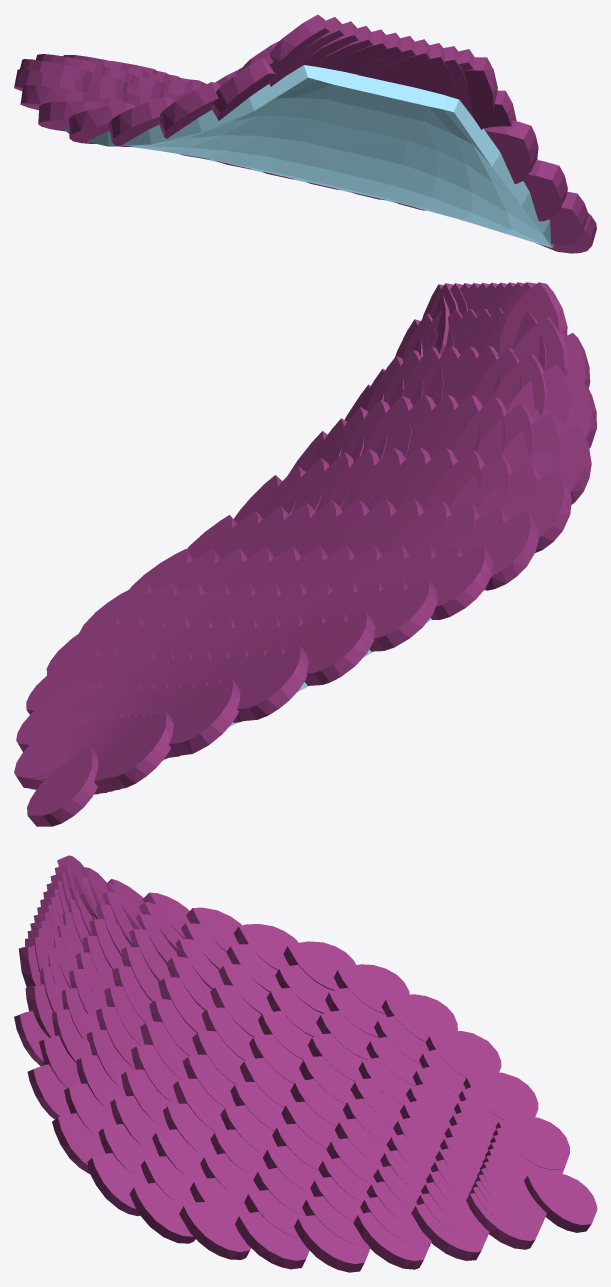
The model's file is Scale.fbx.
The picture shows the model from 3 angles, top to bottom: view 1: azimuth 30°, elevation 25°; view 2: azimuth 150°, elevation 25°; view 3: azimuth 270°, elevation 25°; orthographic projection. The views are drawn at different scales.
Visible parts, largest first — view 1: Plane; view 2: Plane; view 3: Plane.
Boxes of the visible parts, left/top/right/bottom form: Plane: left=14, top=14, right=596, bottom=253; Plane: left=14, top=282, right=596, bottom=826; Plane: left=14, top=855, right=596, bottom=1272.
Size of the model in its own units: 1959 by 1515 by 2672.
